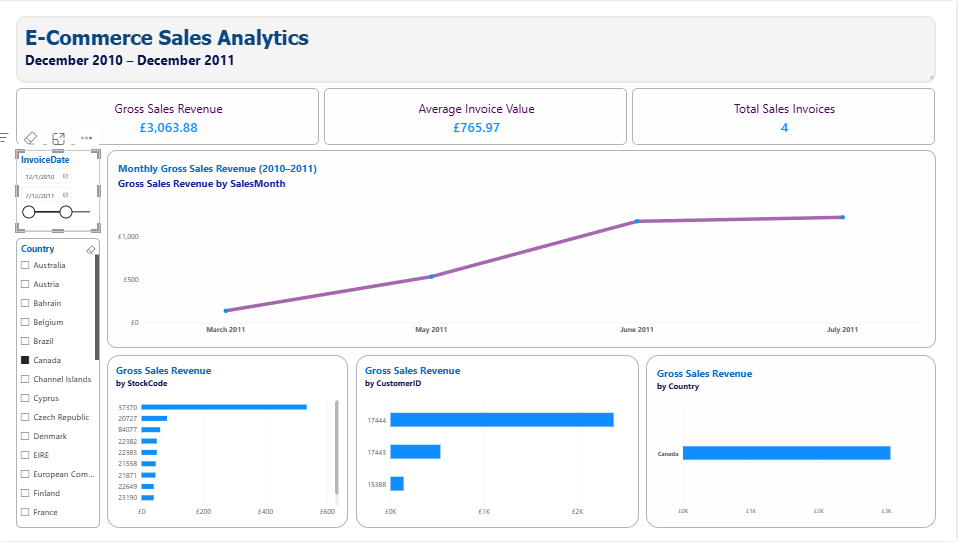

What the dashboard file says about the page in this screenshot:
{"tool":"powerbi","page":{"name":"Page 1","canvas":[1920,1080],"ordinal":0},"visuals":[{"type":"cardVisual","fields":{"Data":["ecommerce transactions.Gross Sales Revenue","ecommerce transactions.Average Invoice Value","ecommerce transactions.Total Sales Invoices"]},"box":[40,164,1840,134],"z":0},{"type":"lineChart","title":"Monthly Gross Sales Revenue (2010–2011)","fields":{"Category":["ecommerce transactions.SalesMonth"],"Y":["ecommerce transactions.Gross Sales Revenue"]},"box":[222,298,1658,396],"z":1},{"type":"clusteredBarChart","fields":{"Category":["ecommerce transactions.Country"],"Y":["ecommerce transactions.Gross Sales Revenue"]},"box":[1300,708,580,346],"z":2},{"type":"clusteredBarChart","fields":{"Category":["ecommerce transactions.StockCode"],"Y":["ecommerce transactions.Gross Sales Revenue"]},"box":[222,708,482,346],"z":3},{"type":"clusteredBarChart","fields":{"Category":["ecommerce transactions.CustomerID"],"Y":["ecommerce transactions.Gross Sales Revenue"]},"box":[720,708,566,346],"z":4},{"type":"textbox","title":"E-Commerce Sales Analytics","box":[40,30,1840,134],"z":5},{"type":"slicer","fields":{"Values":["ecommerce transactions.Country"]},"box":[40,474,168,580],"z":6},{"type":"slicer","fields":{"Values":["ecommerce transactions.InvoiceDate"]},"box":[40,298,168,163],"z":7}]}

Visuals, with their boxes in screenshot pixels (x1, y1, x2, y2):
cardVisual - ecommerce transactions.Gross Sales Revenue x ecommerce transactions.Average Invoice Value: 15, 83, 920, 149
"Monthly Gross Sales Revenue (2010–2011)" lineChart: 104, 149, 920, 344
clusteredBarChart - ecommerce transactions.Country x ecommerce transactions.Gross Sales Revenue: 635, 351, 920, 521
clusteredBarChart - ecommerce transactions.StockCode x ecommerce transactions.Gross Sales Revenue: 104, 351, 341, 521
clusteredBarChart - ecommerce transactions.CustomerID x ecommerce transactions.Gross Sales Revenue: 349, 351, 628, 521
"E-Commerce Sales Analytics" textbox: 15, 17, 920, 83
slicer - ecommerce transactions.Country: 15, 236, 97, 521
slicer - ecommerce transactions.InvoiceDate: 15, 149, 97, 229
